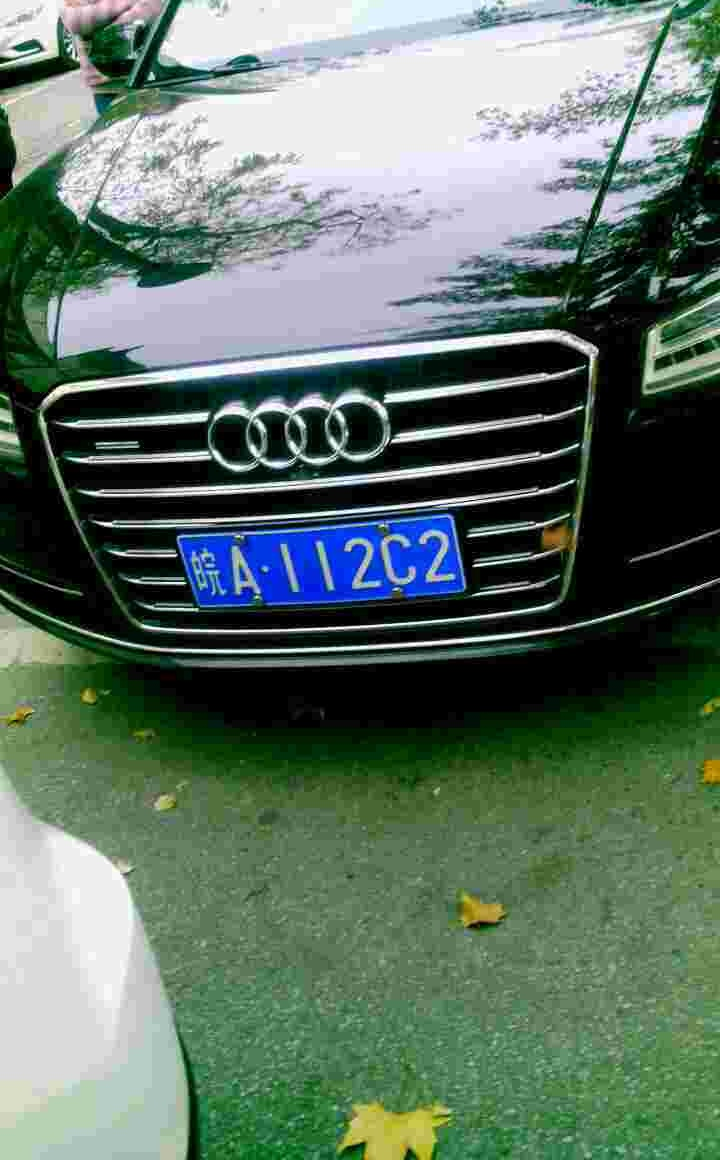license_plate: (170, 518, 475, 617)
